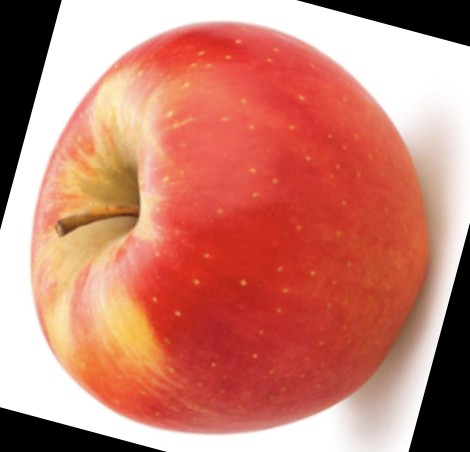fresh_apple: (29, 21, 430, 433)
